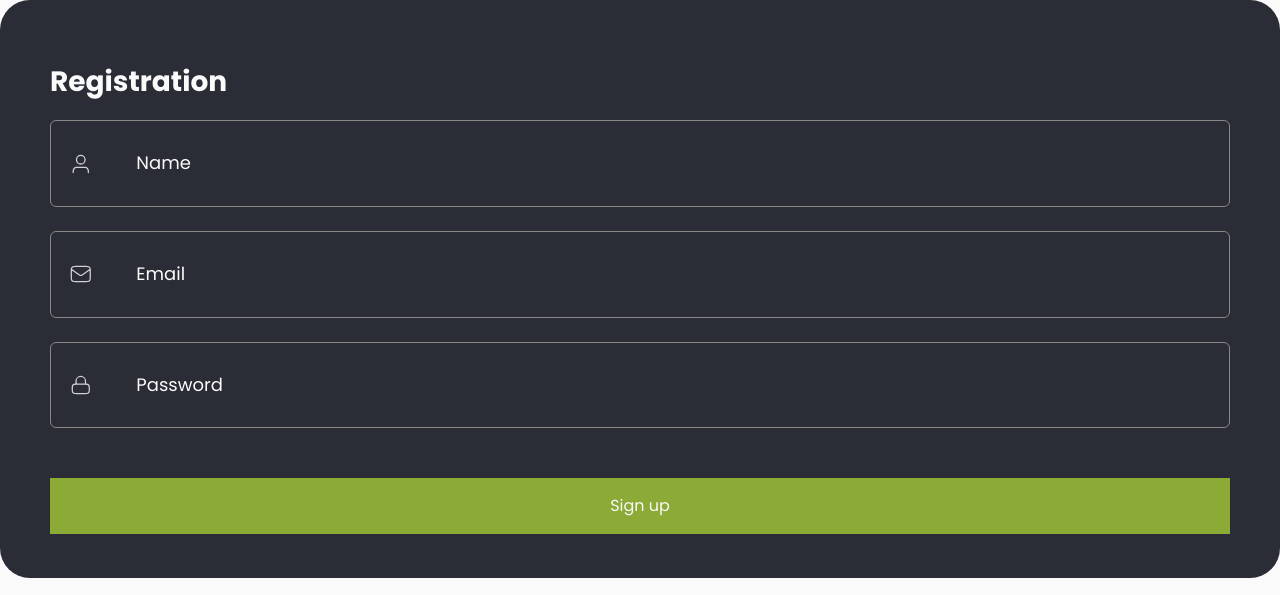
RegisterForm › form validation › should display success icon when email input is valid
Type "valid.email@example.com" into the field with placeholder "Email".
click(656, 274); type("valid.email@example.com")  # box x1=100 y1=248 x2=1211 y2=301
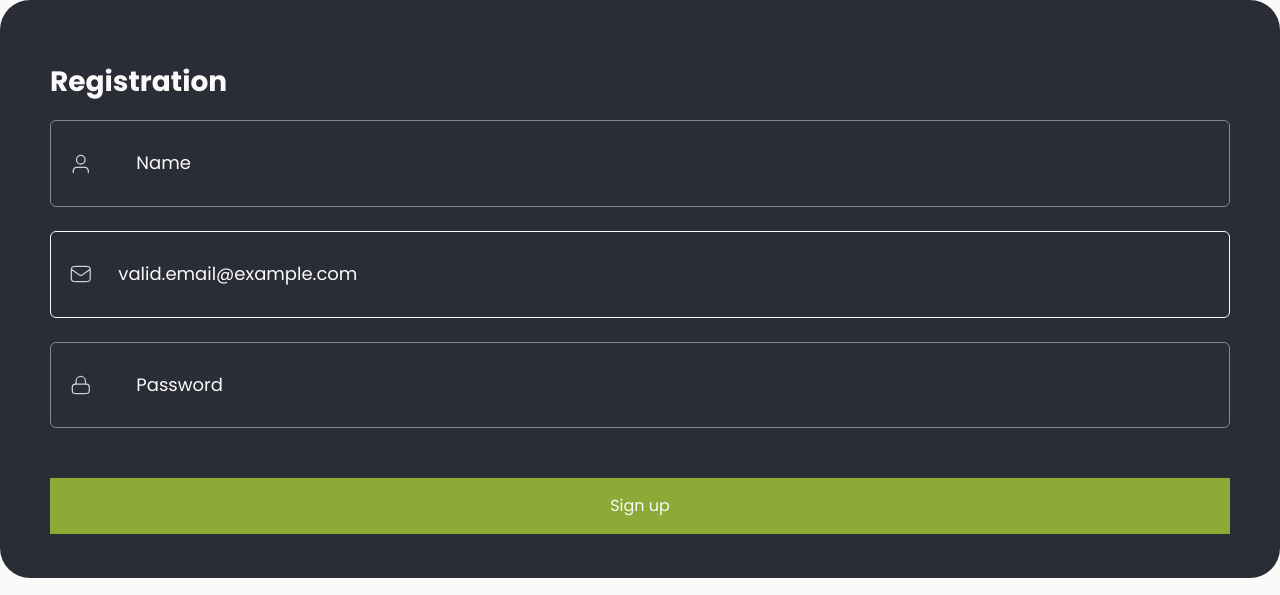
Leave the field with placeholder "Email", box x1=100 y1=248 x2=1211 y2=301
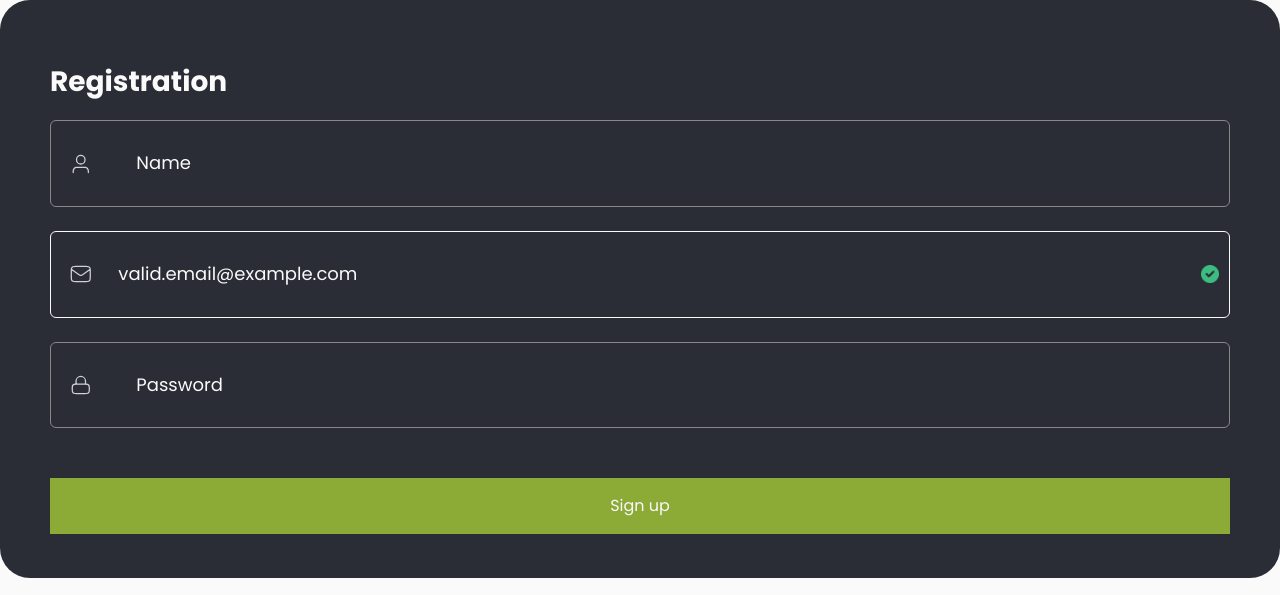
Check: the picture with alt text "Success Icon" is shown, box x1=1201 y1=266 x2=1219 y2=284
